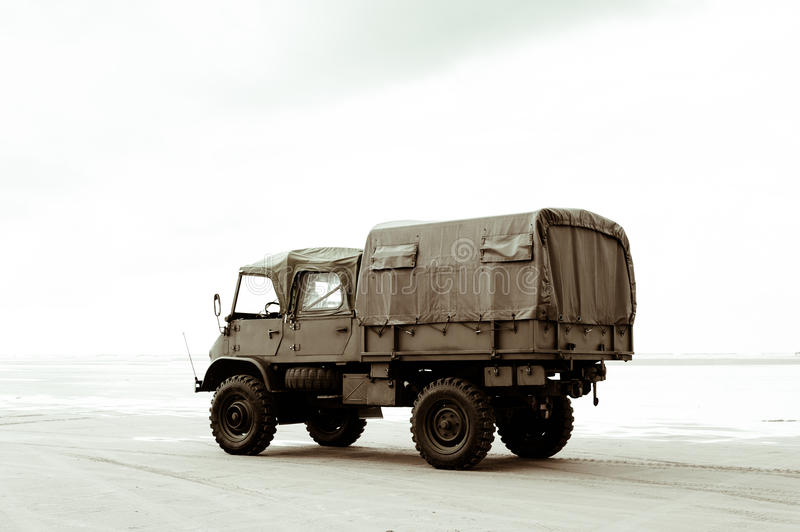camion: (208, 216, 628, 464)
